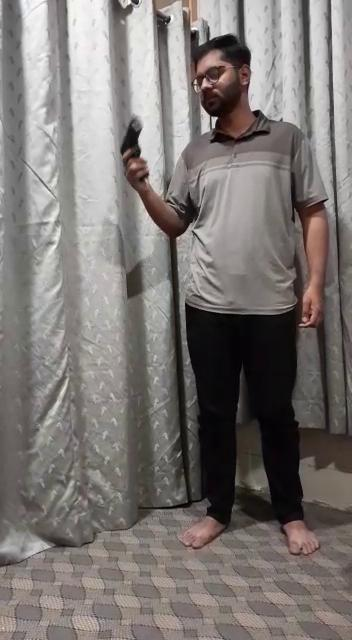criminal: (118, 32, 332, 557)
weapon: (120, 113, 156, 181)
